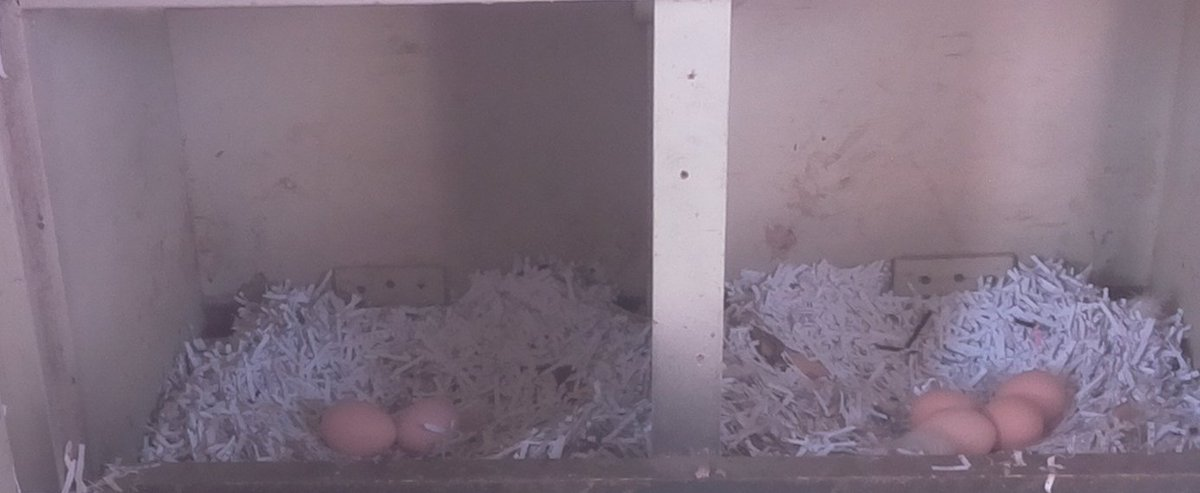egg: (315, 396, 405, 460), (395, 389, 467, 458), (990, 365, 1074, 424), (915, 405, 999, 461), (981, 391, 1048, 451), (910, 383, 983, 421)
